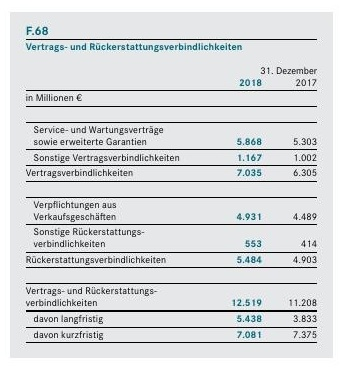table: (0, 0, 340, 369)
